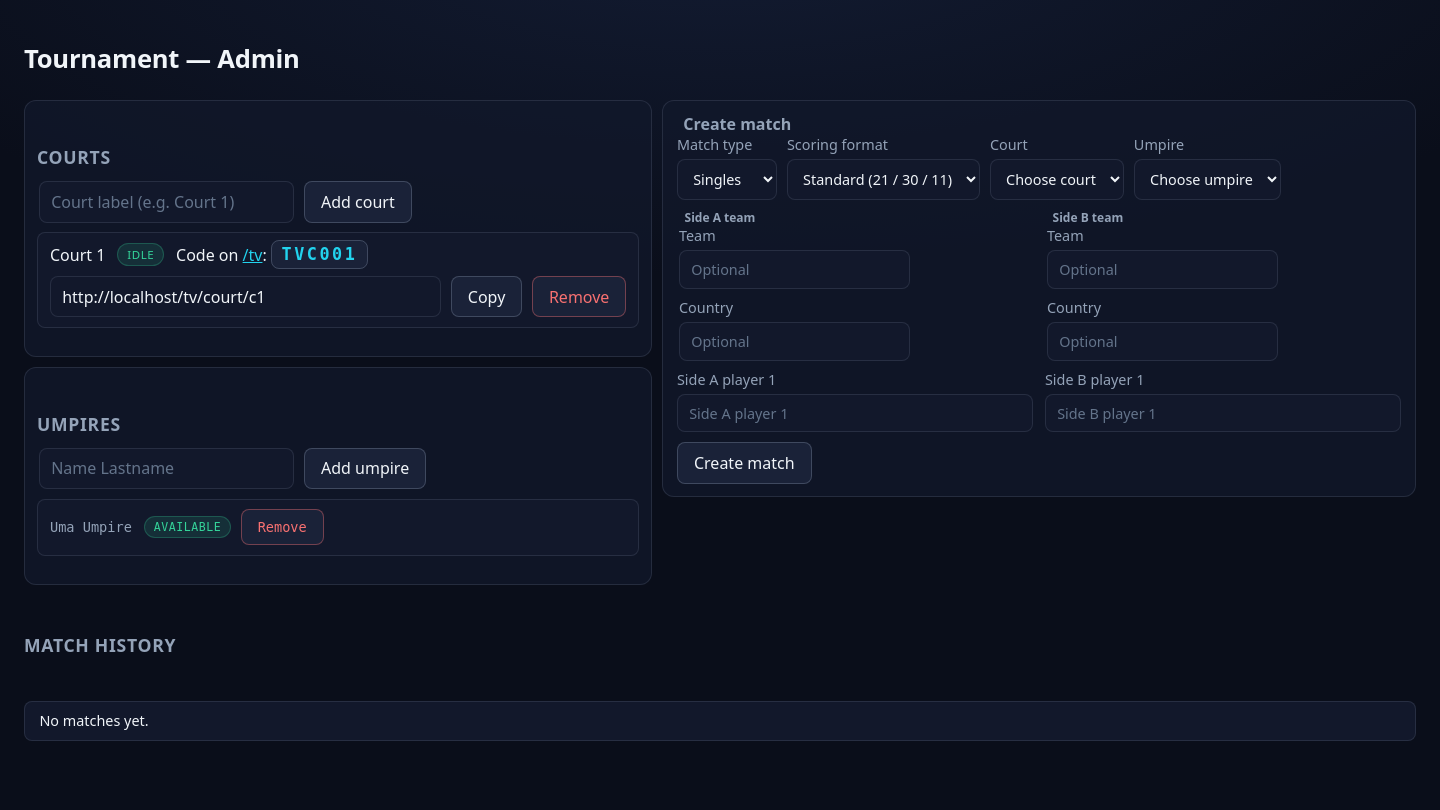
Test case: AdminDashboard › courts › removes a court when Remove is clicked and refreshes the list
Check: the text "Court 1" is shown, box left=50, top=244, right=105, bottom=266
Step 1. Click the button "Remove" below "TVC001" → (579, 297), box left=532, top=276, right=626, bottom=318
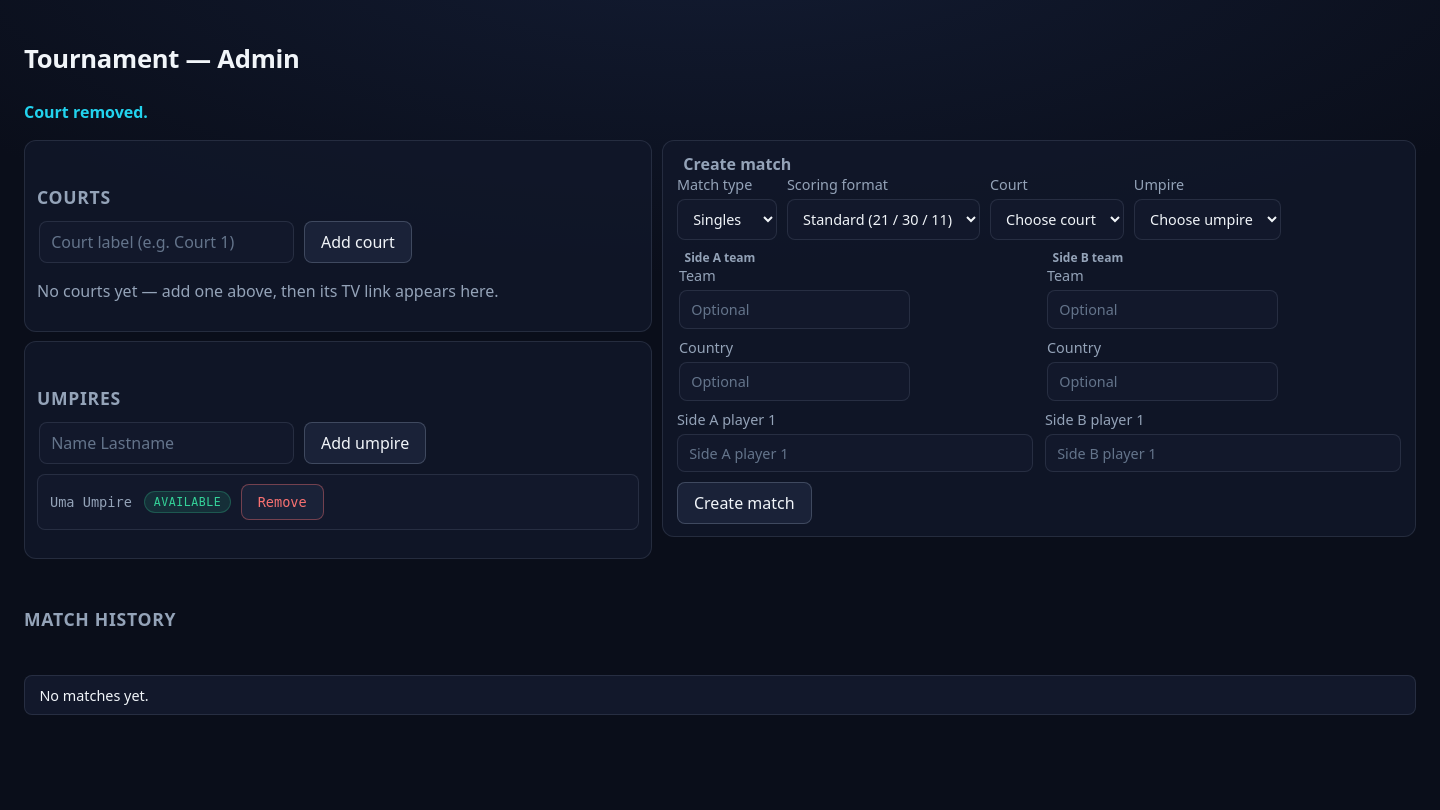
Check: the text "Court removed." is shown, box left=24, top=101, right=148, bottom=123
Check: the text "No courts yet" is shown, box left=37, top=280, right=499, bottom=302
